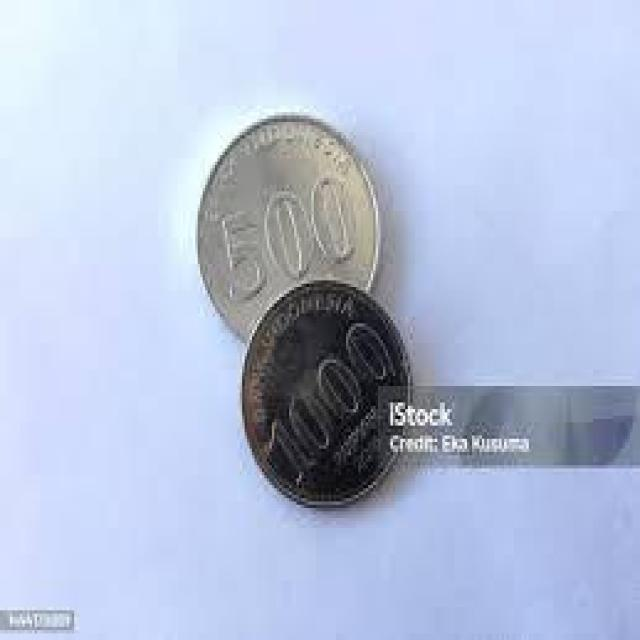500-silver: (188, 108, 378, 356)
